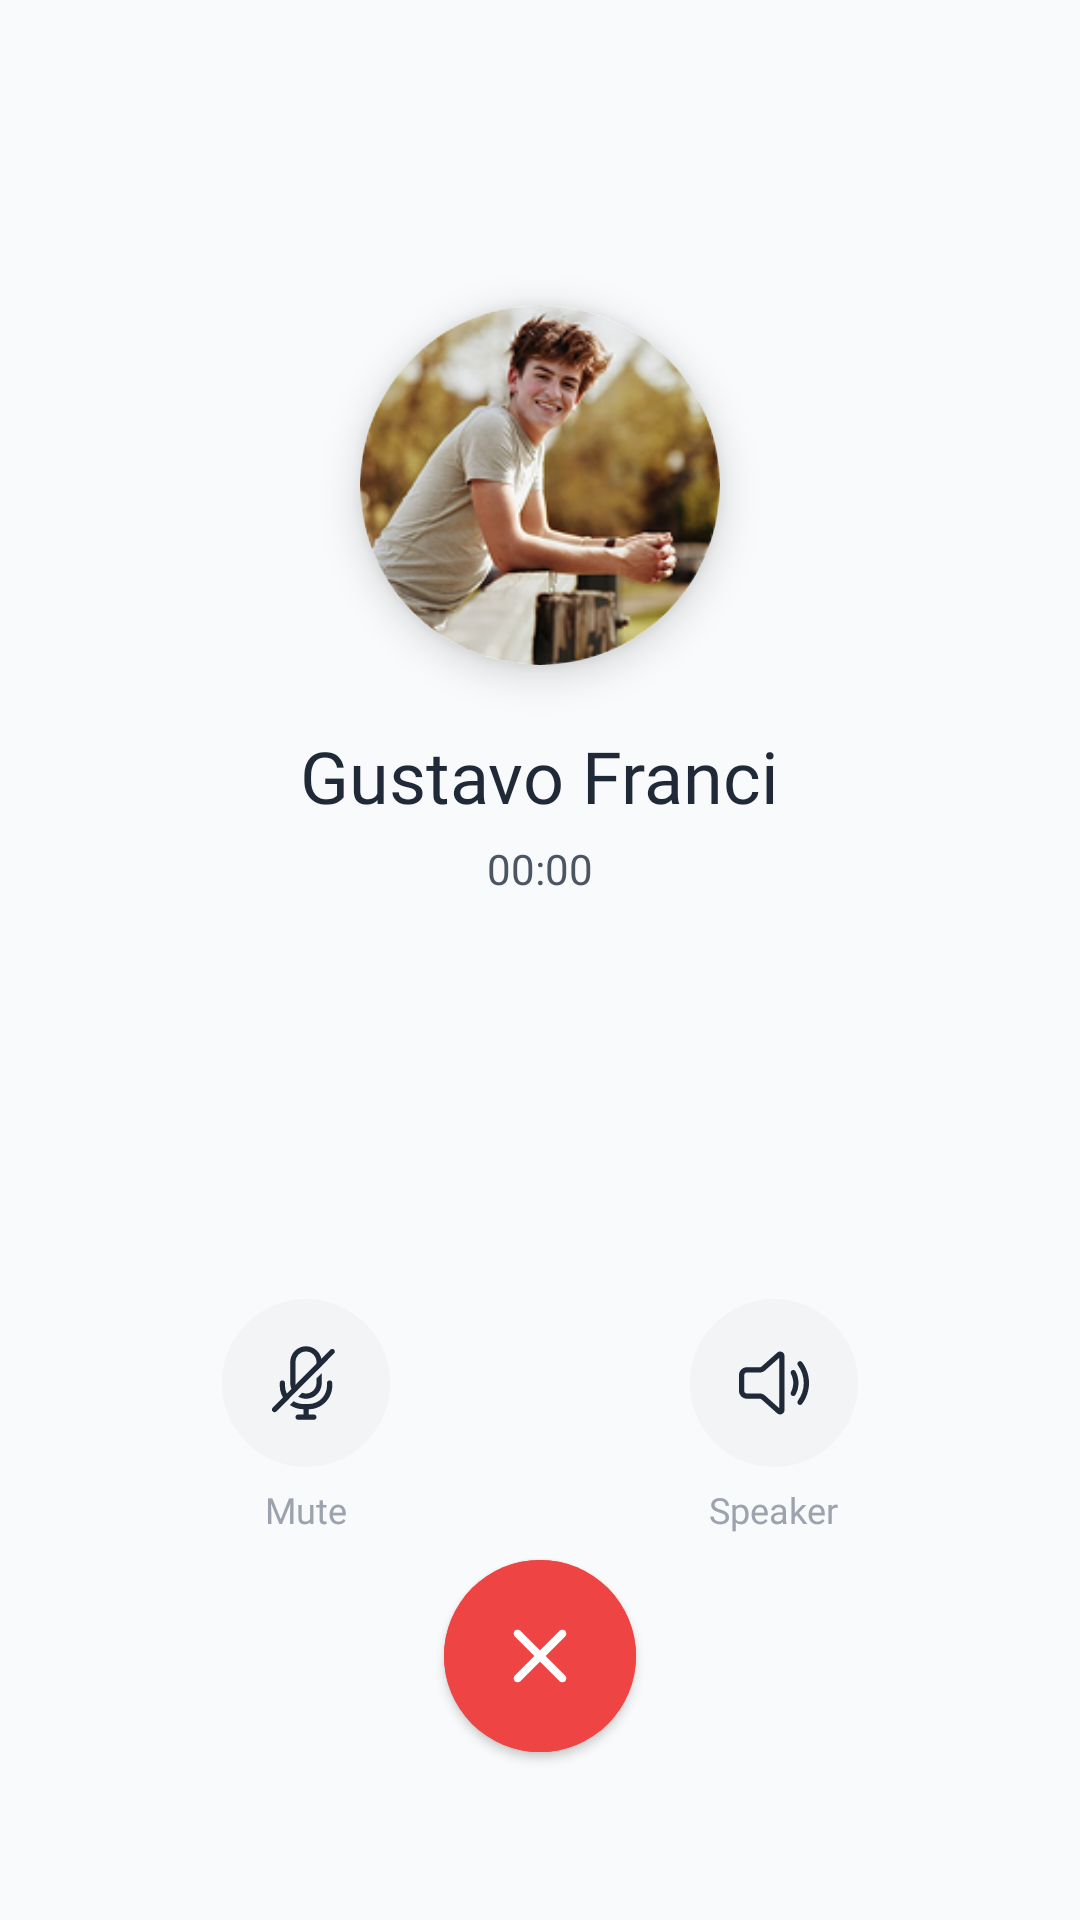

Where to tap for icons on this 1080 × 1920 app screen, as point (x, y):
close: point (540, 1656)
